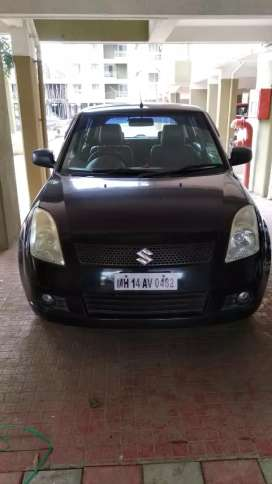license_plate: (114, 273, 180, 293)
